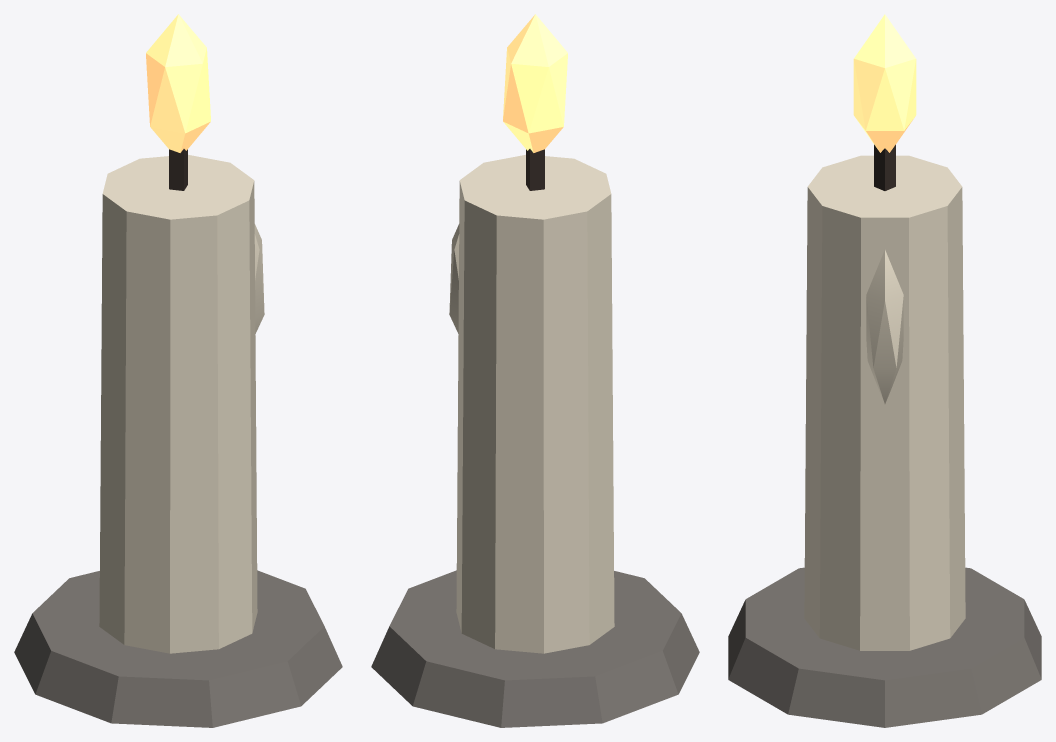
File: Candle.fbx
3 renders of one model, left to right at view 1: azimuth 30°, elevation 25°; view 2: azimuth 150°, elevation 25°; view 3: azimuth 270°, elevation 25°, orthographic.
Parts seen in each view (by area): view 1: Candle_Wax, Candle_Stone, Candle_Glow, Candle_Wick; view 2: Candle_Wax, Candle_Stone, Candle_Glow, Candle_Wick; view 3: Candle_Wax, Candle_Stone, Candle_Glow, Candle_Wick.
Part boxes in pixels (x1=…): Candle_Wax: x1=99, y1=154, x2=264, y2=653; Candle_Stone: x1=14, y1=570, x2=342, y2=727; Candle_Glow: x1=146, y1=14, x2=210, y2=152; Candle_Wick: x1=169, y1=149, x2=187, y2=190; Candle_Wax: x1=449, y1=154, x2=614, y2=653; Candle_Stone: x1=371, y1=570, x2=699, y2=727; Candle_Glow: x1=503, y1=14, x2=567, y2=152; Candle_Wick: x1=526, y1=149, x2=544, y2=190; Candle_Wax: x1=804, y1=155, x2=965, y2=650; Candle_Stone: x1=728, y1=567, x2=1041, y2=727; Candle_Glow: x1=853, y1=14, x2=916, y2=152; Candle_Wick: x1=874, y1=144, x2=895, y2=190.
Bounding box in the file's own units: 90 × 194 × 85.6.
